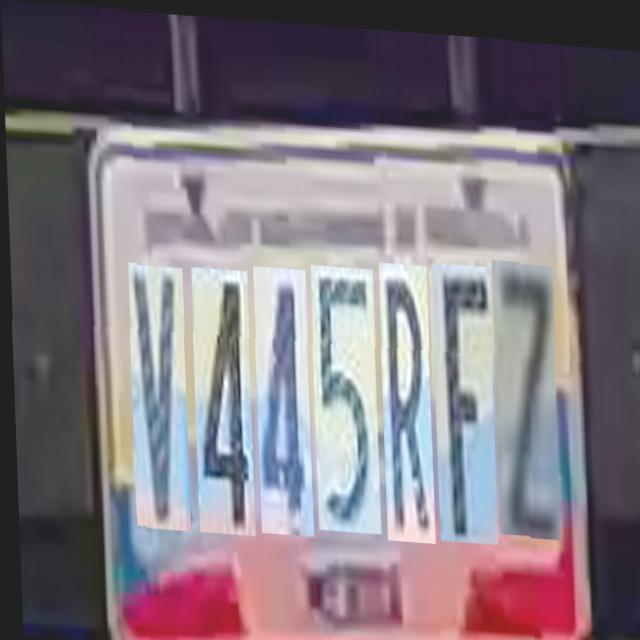4: (188, 264, 252, 532), (251, 262, 311, 532)
5: (308, 260, 378, 529)
F: (430, 256, 496, 538)
R: (377, 258, 433, 538)
V: (126, 262, 188, 528)
Z: (490, 252, 558, 530)
